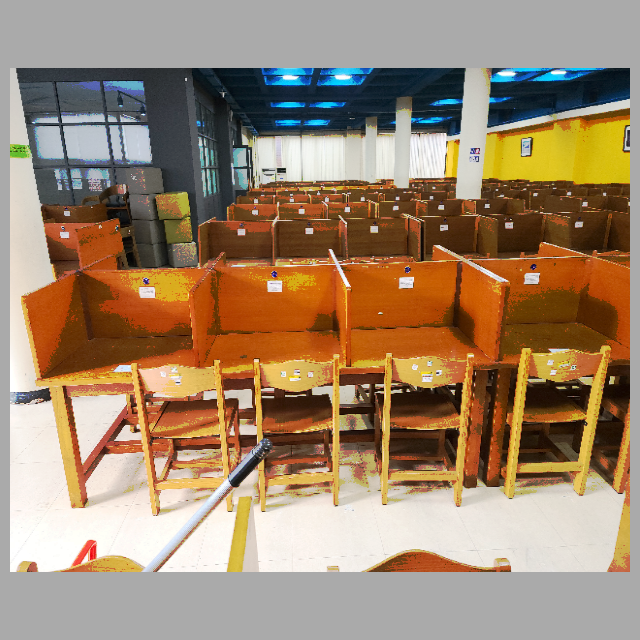empty: (28, 252, 191, 431), (354, 248, 502, 425), (199, 250, 346, 427)
